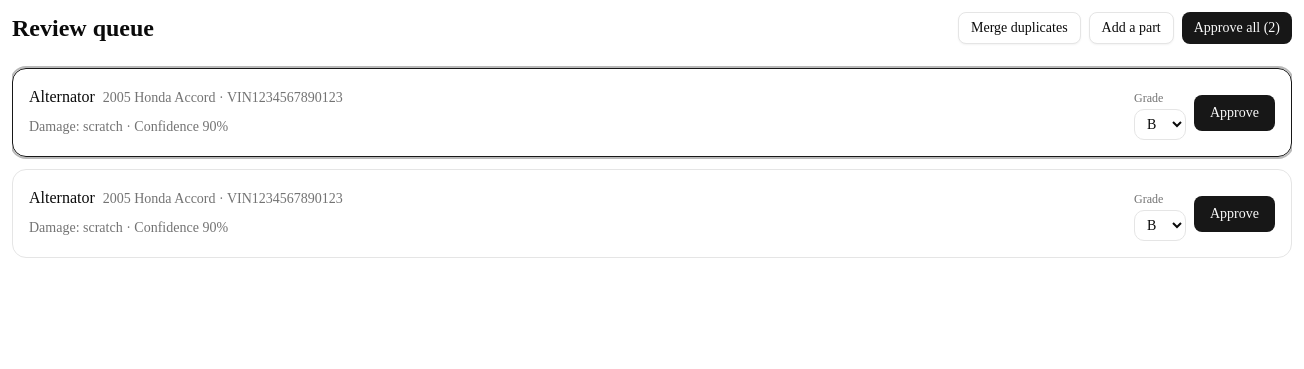
ReviewQueuePage › Merge duplicates › merges the selected parts into the earliest-created one, then refreshes the queue
Expected: the option with test id "review-item-older" is shown, [12,68,1292,157]
Step 1. Click the button "Merge duplicates" → (1019,28), box [958,12,1080,44]
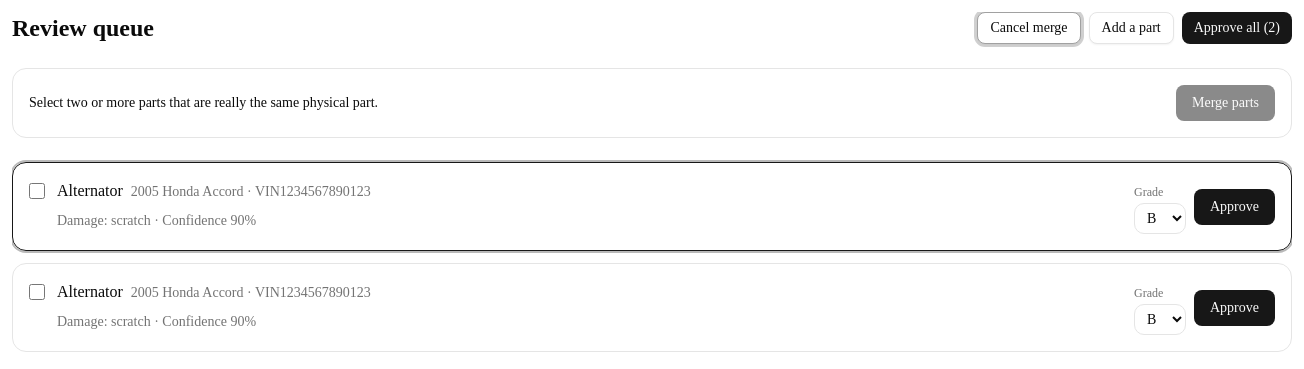
Step 2. Click the 1st checkbox named "Select Alternator for merge" → (37,191), box [29,183,45,199]
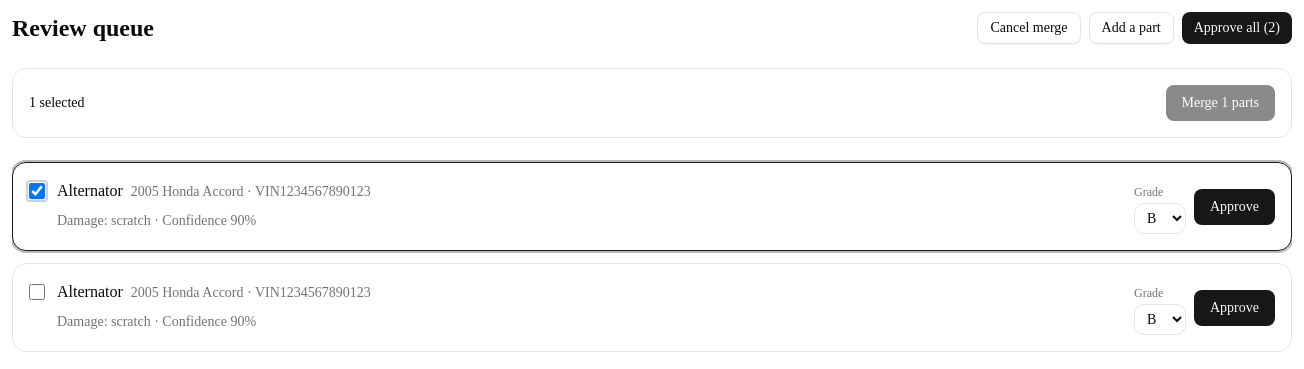
Step 3. Click the 2nd checkbox named "Select Alternator for merge" → (37,292), box [29,284,45,300]
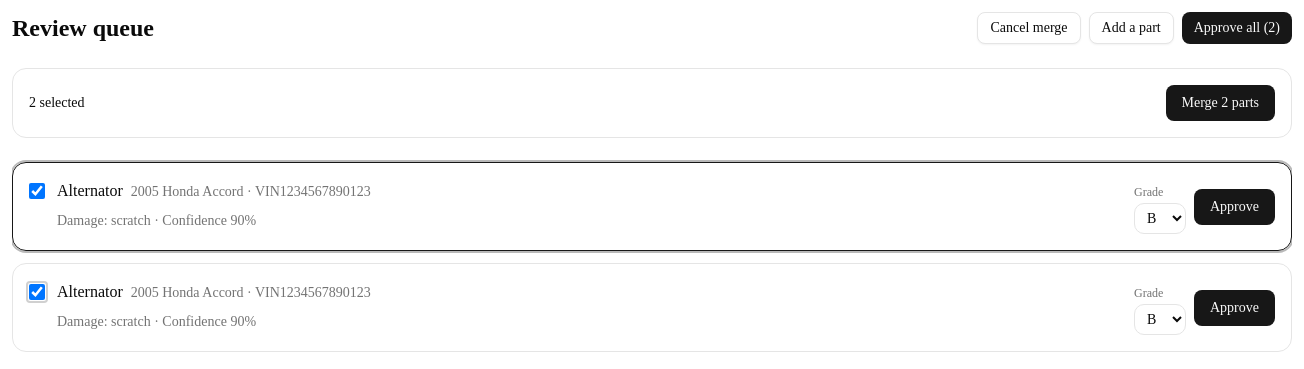
Step 4. Click the button "Merge 2 parts" → (1220,103), box [1166,85,1275,121]
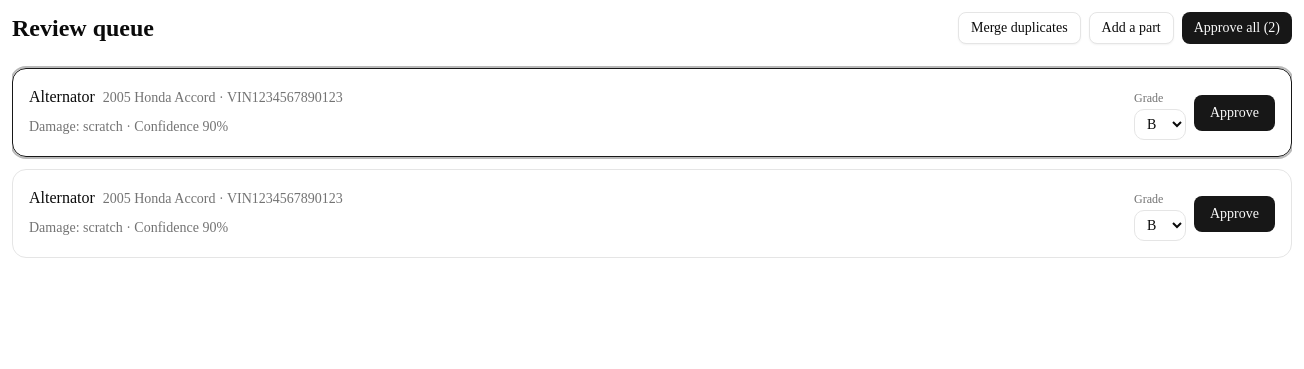
Now the checkbox is gone
